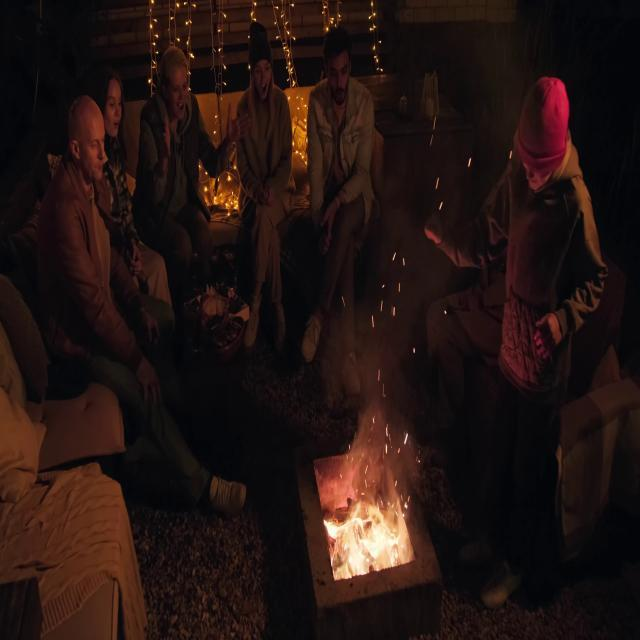Fire: (324, 488, 396, 576)
